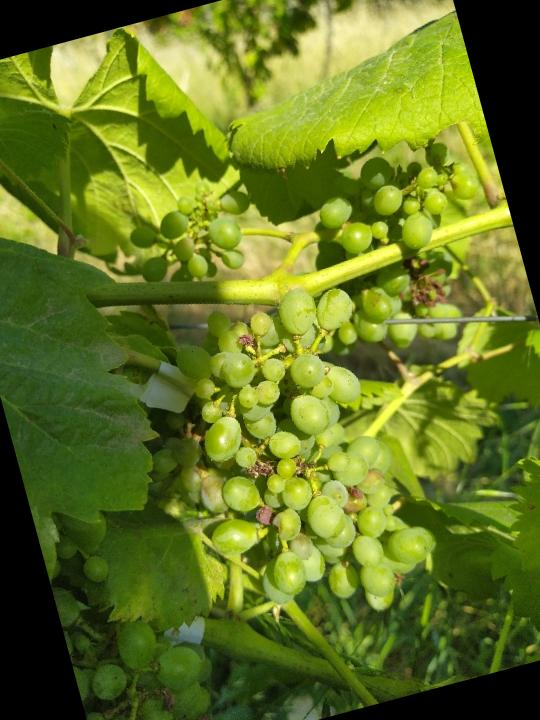grape: (119, 267, 456, 661), (290, 131, 519, 370), (117, 171, 268, 296)
